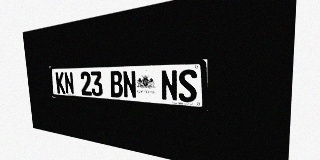2: (80, 71, 92, 96)
3: (90, 71, 103, 96)
B: (109, 71, 123, 98)
K: (55, 72, 65, 94)
N: (160, 70, 178, 101), (122, 70, 137, 99), (64, 72, 74, 95)
S: (178, 69, 197, 103)
